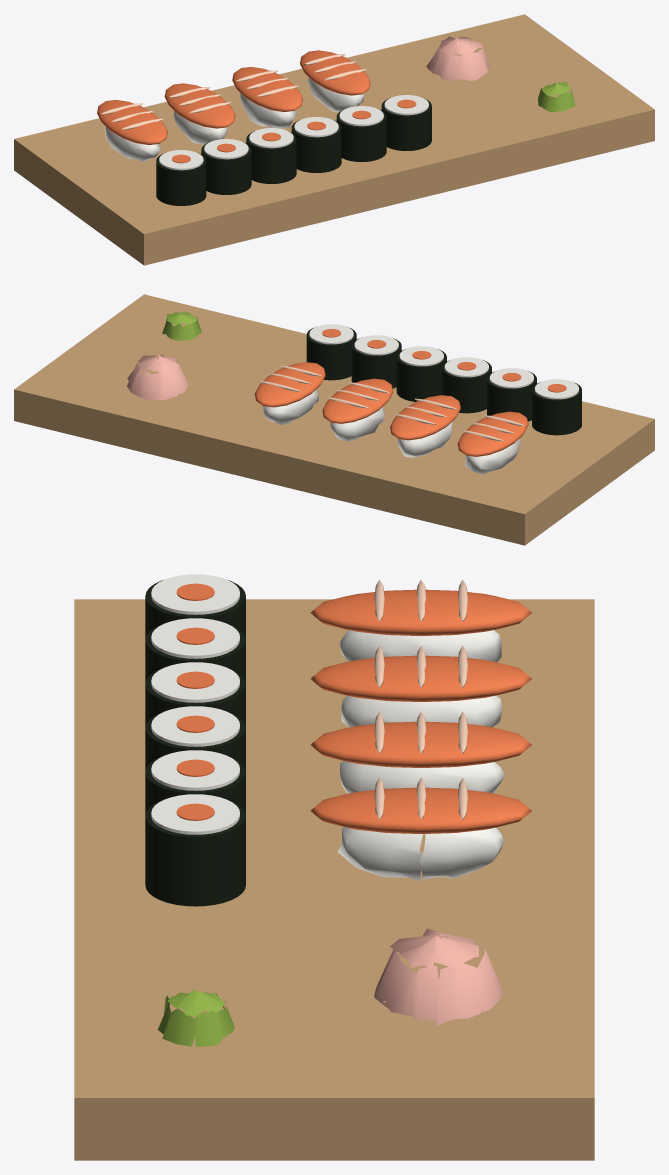
The model's file is combinado_salmao.glb.
3 views of the same model, one above another, from view 1: azimuth 30°, elevation 25°; view 2: azimuth 150°, elevation 25°; view 3: azimuth 270°, elevation 25° (orthographic). The views are drawn at different scales.
Parts seen in each view (by area): view 1: combinado_salmao; view 2: combinado_salmao; view 3: combinado_salmao.
Boxes of the visible parts, <box> form: combinado_salmao: <box>14,14,654,265</box>; combinado_salmao: <box>14,294,654,545</box>; combinado_salmao: <box>74,574,594,1160</box>.
Size of the model in its own units: 0.34 by 0.048 by 0.15.
